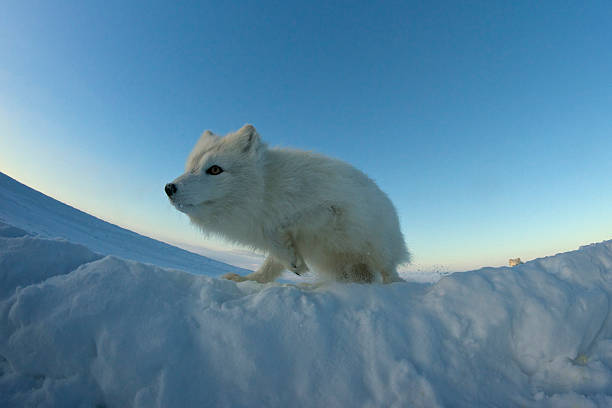arcticfox: (159, 139, 278, 238)
